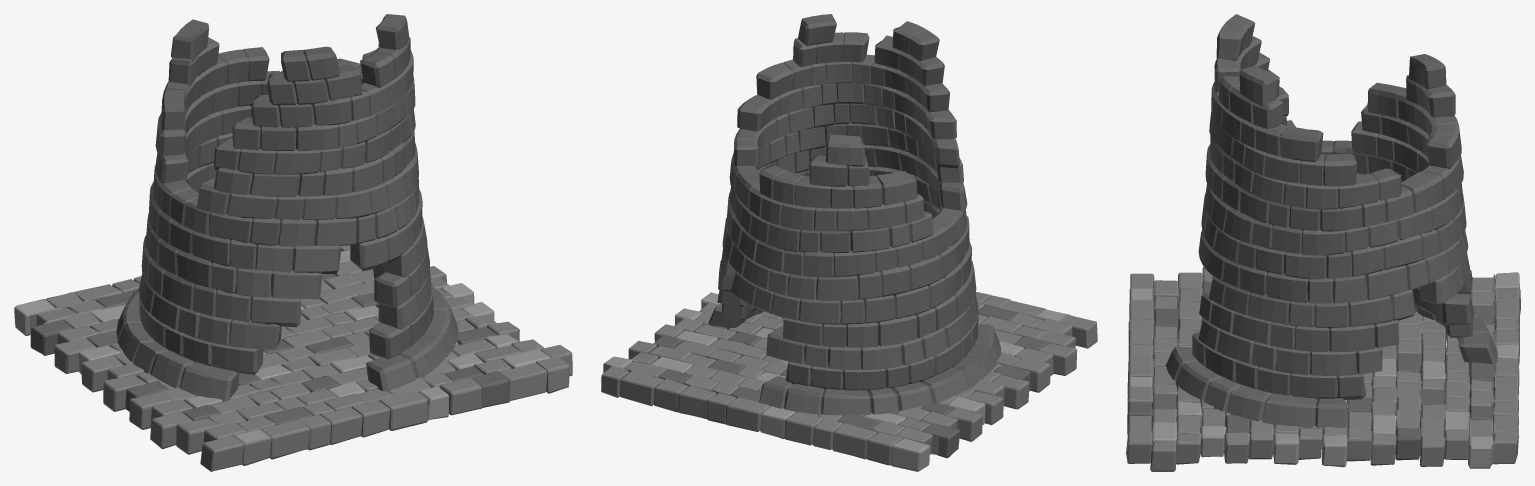
The model's file is FALLENTOWER.fbx.
The picture shows the model from 3 angles, left to right: view 1: azimuth 30°, elevation 25°; view 2: azimuth 150°, elevation 25°; view 3: azimuth 270°, elevation 25°; orthographic projection. The views are drawn at different scales.
Parts seen in each view (by area): view 1: tower, towerfloor; view 2: tower, towerfloor; view 3: tower, towerfloor.
Boxes of the visible parts, x1=… form: tower: x1=116, y1=14, x2=458, y2=401; towerfloor: x1=14, y1=245, x2=572, y2=471; tower: x1=708, y1=14, x2=1001, y2=416; towerfloor: x1=601, y1=292, x2=1097, y2=471; tower: x1=1165, y1=14, x2=1497, y2=433; towerfloor: x1=1126, y1=266, x2=1520, y2=471.
Size of the model in its own units: 3945 by 3420 by 3575.
